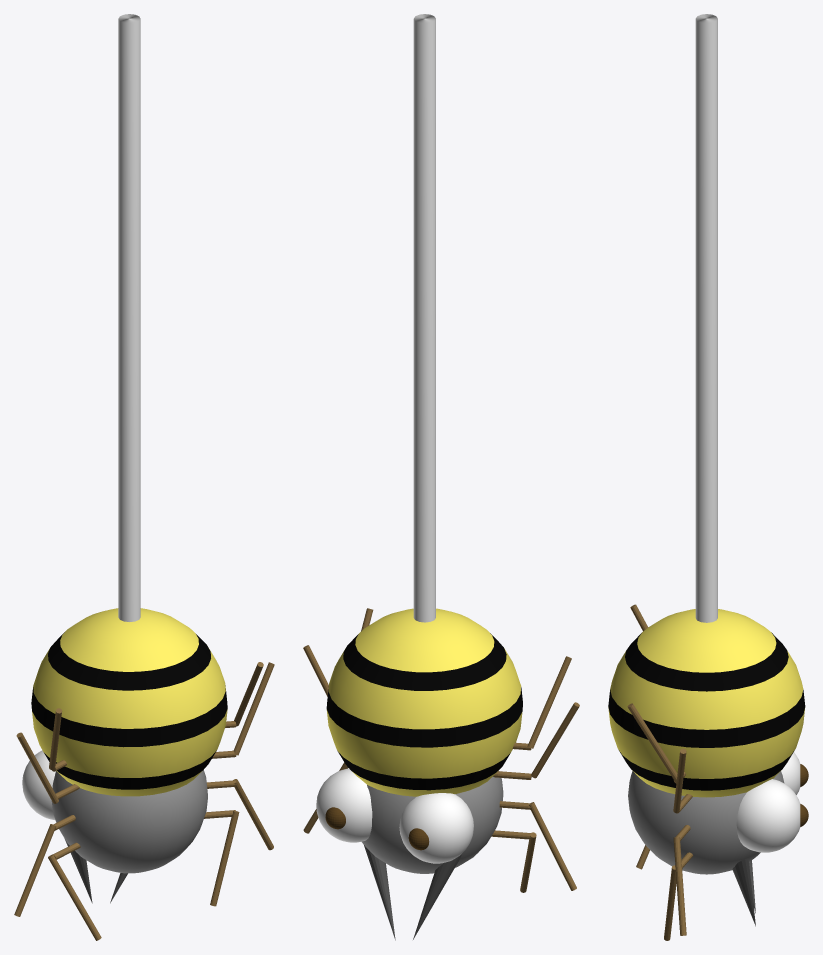
Rendered from kumo.fbx.
3 renders of one model, left to right at view 1: azimuth 30°, elevation 25°; view 2: azimuth 150°, elevation 25°; view 3: azimuth 270°, elevation 25°, orthographic.
Parts seen in each view (by area): view 1: Abdomen, Thread, Body, Abdomen.002, Abdomen.001, Eye_L, Shin_R_3, Shin_L_3, Shin_R_2, Shin_L_2, Shin_L_1; view 2: Abdomen, Thread, Abdomen.002, Body, Eye_L, Abdomen.001, Eye_R, Fang_L, Fang_R, Shin_L_2, Shin_L_0, Shin_L_1; view 3: Abdomen, Thread, Body, Abdomen.002, Eye_R, Abdomen.001, Shin_R_1, Fang_R, Shin_R_0, Eye_L, Shin_R_3, Shin_R_2.
Part boxes in pixels (box(x1,y1,x2,y2)): Abdomen: box(32, 608, 227, 796); Thread: box(118, 14, 140, 621); Body: box(51, 770, 207, 873); Abdomen.002: box(31, 685, 227, 789); Abdomen.001: box(48, 632, 210, 690); Eye_L: box(22, 750, 55, 819); Shin_R_3: box(210, 811, 239, 906); Shin_L_3: box(48, 854, 101, 940); Shin_R_2: box(233, 662, 274, 755); Shin_L_2: box(14, 824, 56, 916); Shin_L_1: box(16, 732, 58, 803); Abdomen: box(326, 608, 522, 796); Thread: box(413, 14, 435, 622); Abdomen.002: box(326, 686, 522, 790); Body: box(361, 770, 503, 873); Eye_L: box(399, 793, 473, 863); Abdomen.001: box(343, 633, 506, 690); Eye_R: box(316, 768, 372, 842); Fang_L: box(413, 855, 461, 939); Fang_R: box(364, 845, 395, 940); Shin_L_2: box(529, 802, 576, 890); Shin_L_0: box(527, 656, 571, 748); Shin_L_1: box(531, 702, 579, 778); Abdomen: box(608, 609, 805, 797); Thread: box(695, 14, 717, 622); Body: box(628, 771, 784, 874); Abdomen.002: box(608, 689, 805, 790); Eye_R: box(736, 779, 800, 852); Abdomen.001: box(625, 632, 788, 691); Shin_R_1: box(673, 837, 686, 935); Fang_R: box(732, 859, 755, 926); Shin_R_0: box(627, 703, 677, 782); Eye_L: box(781, 752, 800, 794); Shin_R_3: box(664, 865, 676, 940); Shin_R_2: box(673, 748, 686, 813).
Size of the model in its own units: 469 by 1522 by 305.
